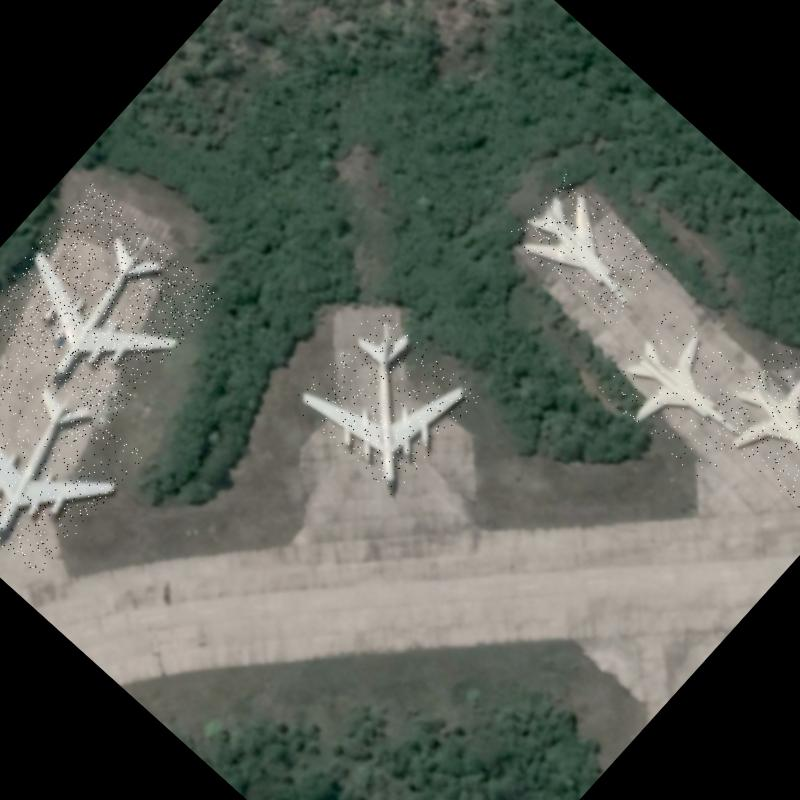A12: (596, 306, 776, 484), (506, 172, 668, 330), (701, 338, 800, 516)
A17: (0, 180, 222, 429), (288, 303, 482, 496), (0, 345, 144, 578)
